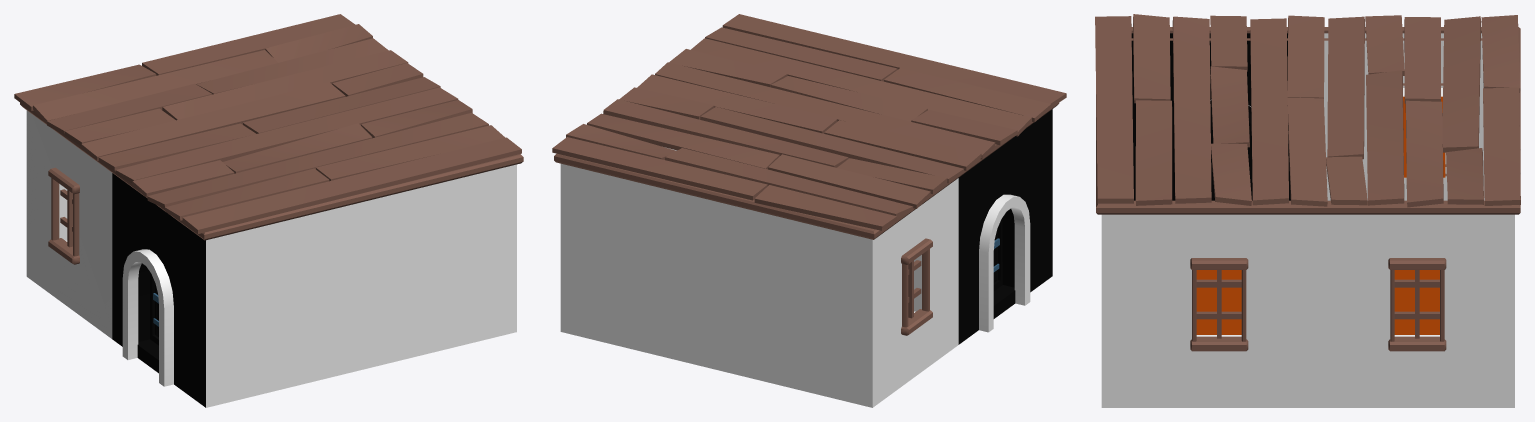
File: civilian_house_39_a.FBX
3 renders of one model, left to right at view 1: azimuth 30°, elevation 25°; view 2: azimuth 150°, elevation 25°; view 3: azimuth 270°, elevation 25°, orthographic. The views are drawn at different scales.
Visible parts, largest first — view 1: civilian_house_39_a_LOD0; view 2: civilian_house_39_a_LOD0; view 3: civilian_house_39_a_LOD0.
Part boxes in pixels (left/top/right/bottom): civilian_house_39_a_LOD0: left=14, top=14, right=523, bottom=407; civilian_house_39_a_LOD0: left=552, top=14, right=1066, bottom=407; civilian_house_39_a_LOD0: left=1095, top=14, right=1520, bottom=407.
Size of what is drawn, in the model's own units: 639 by 342 by 618.
